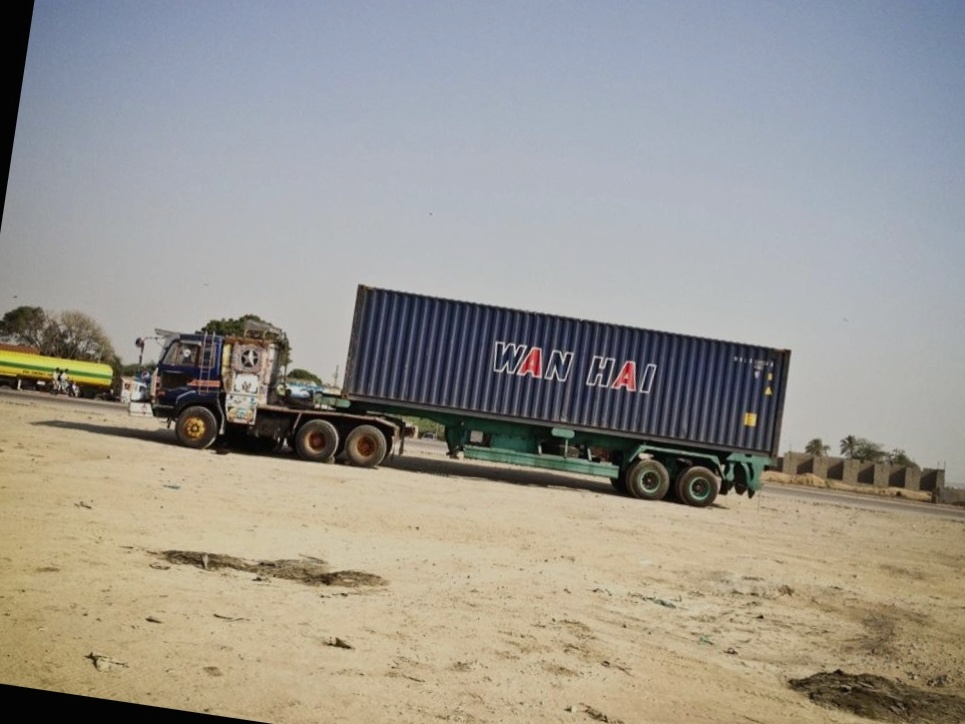truck: (142, 254, 793, 533)
